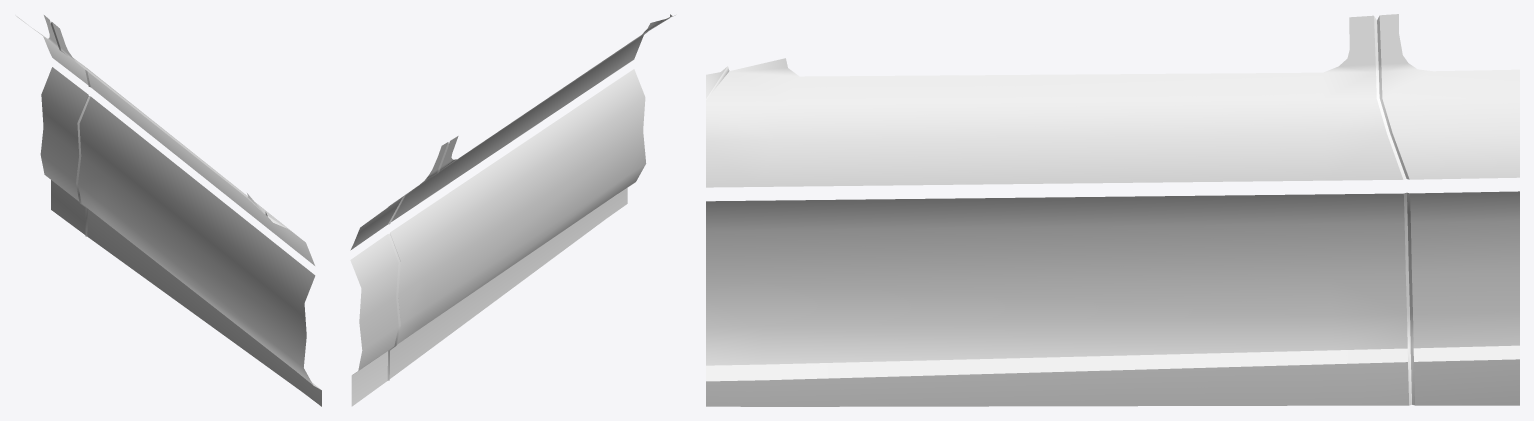
3 views of the same model, side by side, from view 1: azimuth 30°, elevation 25°; view 2: azimuth 150°, elevation 25°; view 3: azimuth 270°, elevation 25° (orthographic). The views are drawn at different scales.
Bounding box in the file's own units: 0.1107 × 0.5075 × 1.05.
Materials: 1 (1 with a texture image).
